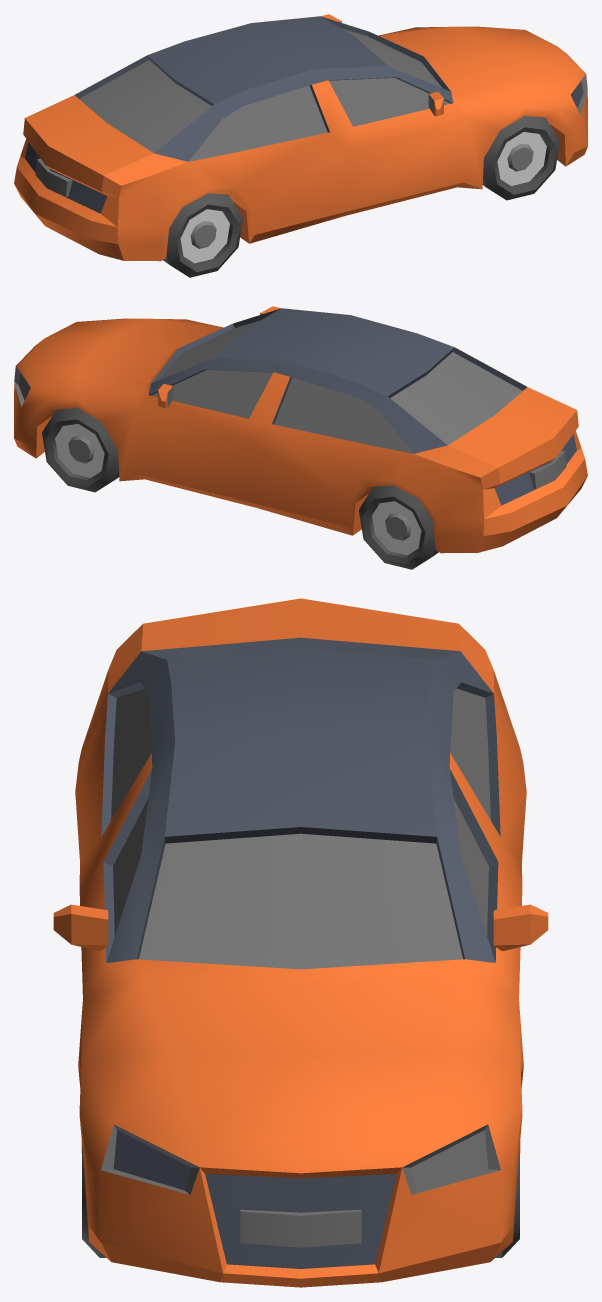
The model's file is Car_01a.fbx.
The picture shows the model from 3 angles, top to bottom: view 1: azimuth 30°, elevation 25°; view 2: azimuth 150°, elevation 25°; view 3: azimuth 270°, elevation 25°; orthographic projection. The views are drawn at different scales.
Visible parts, largest first — view 1: Car_01a; view 2: Car_01a; view 3: Car_01a.
Boxes of the visible parts, box(x1,y1,x2,y2) form: Car_01a: box(14, 14, 587, 277); Car_01a: box(14, 306, 587, 569); Car_01a: box(53, 598, 548, 1287).
Bounding box in the file's own units: 996 × 289 × 396.
